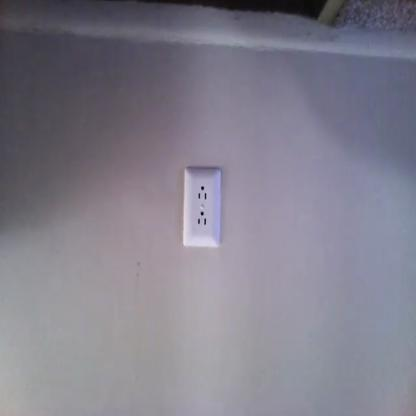OUTLET: (182, 165, 223, 248)
